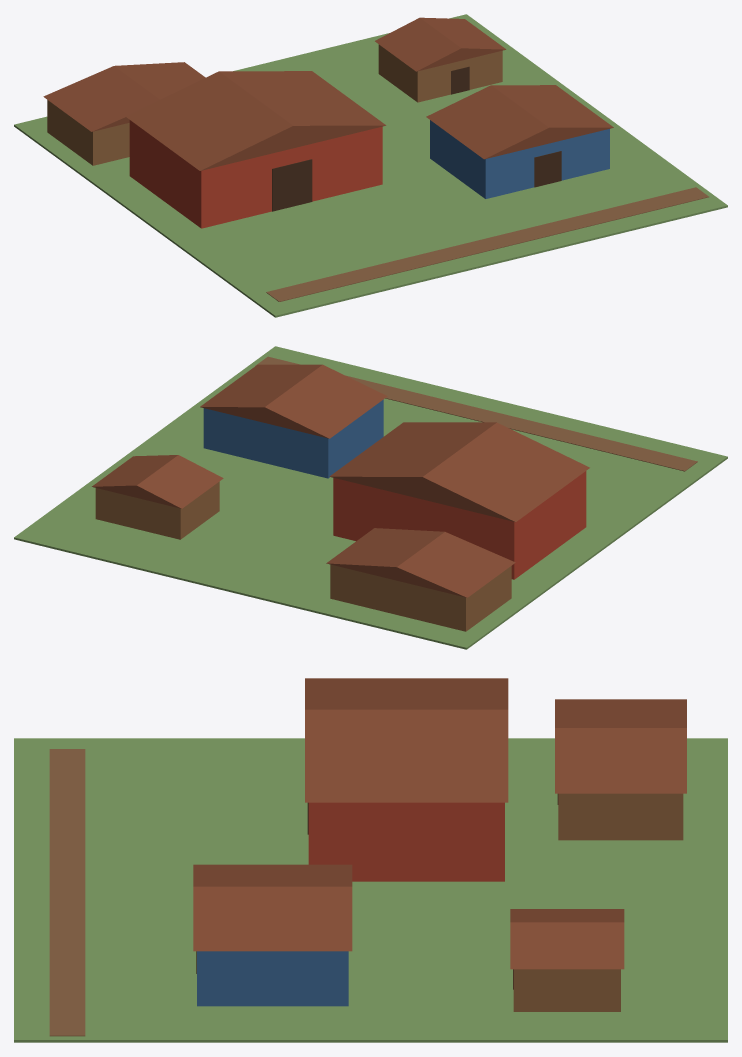
The model's file is FarFarmBuildings.glb.
The picture shows the model from 3 angles, top to bottom: view 1: azimuth 30°, elevation 25°; view 2: azimuth 150°, elevation 25°; view 3: azimuth 270°, elevation 25°; orthographic projection. The views are drawn at different scales.
Visible parts, largest first — view 1: FTF_Distant_RoughFarmBuildings_80m; view 2: FTF_Distant_RoughFarmBuildings_80m; view 3: FTF_Distant_RoughFarmBuildings_80m.
Part boxes in pixels (x1,y1,x2,y2): FTF_Distant_RoughFarmBuildings_80m: (14,14,727,317); FTF_Distant_RoughFarmBuildings_80m: (14,346,727,649); FTF_Distant_RoughFarmBuildings_80m: (14,678,727,1042).
Bounding box in the file's own units: 80 × 14.12 × 80.
